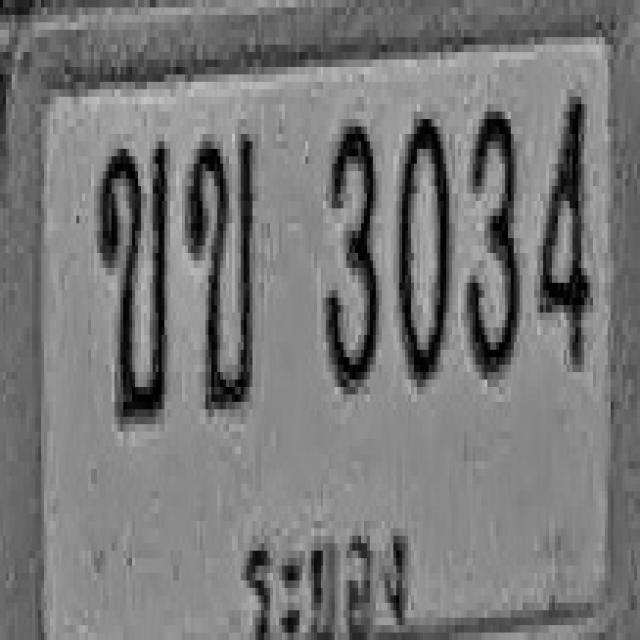0: (396, 108, 449, 383)
11KhorKhai: (95, 137, 169, 420), (185, 126, 255, 410)
3: (465, 100, 521, 376), (323, 115, 379, 391)
4: (537, 89, 590, 365)
Rayong: (235, 505, 418, 640)
